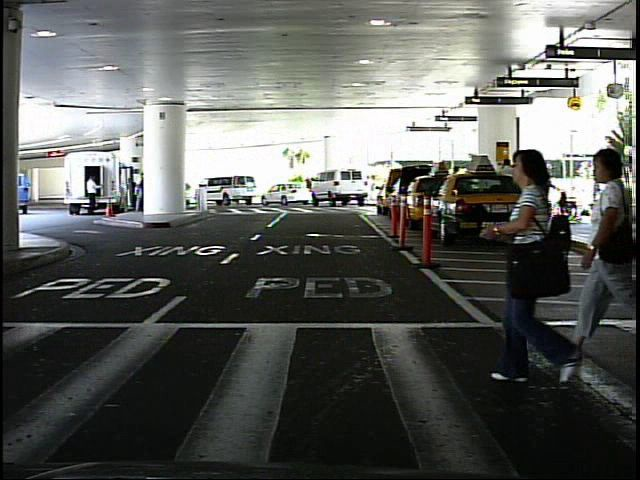person: (488, 138, 577, 396), (85, 172, 104, 218), (588, 172, 607, 218), (365, 171, 379, 206)
